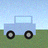vehicle: (4, 16, 36, 39)
